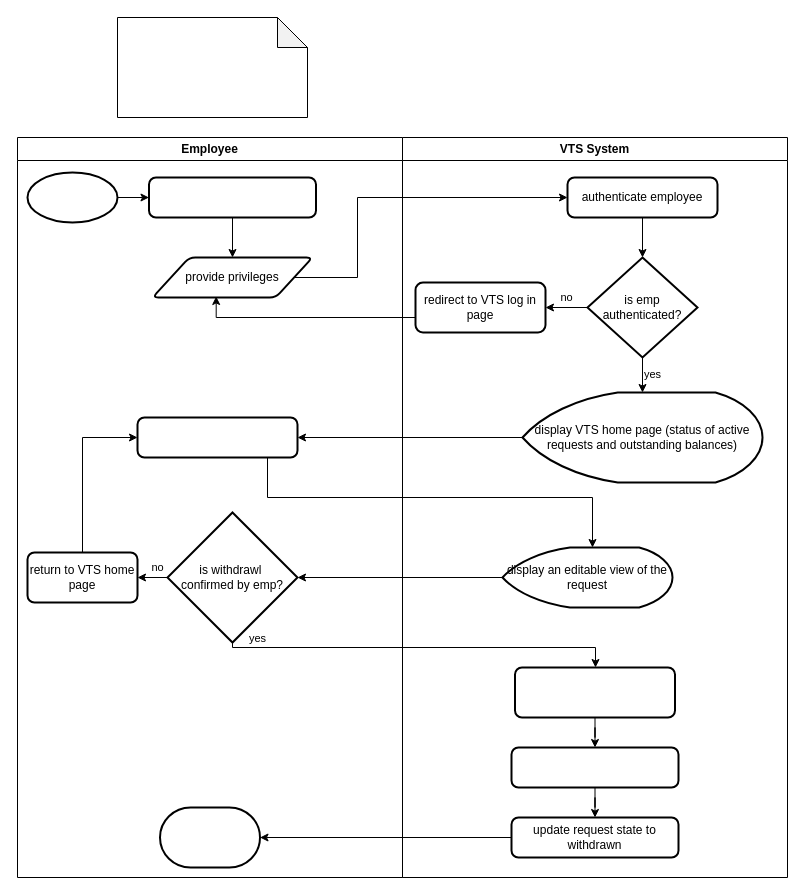
This 805x895 diagram has some shape labels left out. The centre of each missing label's shape, as x and y in pixels:
"emp = employee request = vacation time request" belongs at pixel 212 67.
"End" belongs at pixel 209 837.
"remove request from manager's pending approvals list" belongs at pixel 595 692.
"select a pending request" belongs at pixel 217 437.
"send notificatioin email to the manager" belongs at pixel 594 767.
"Start" belongs at pixel 72 197.
